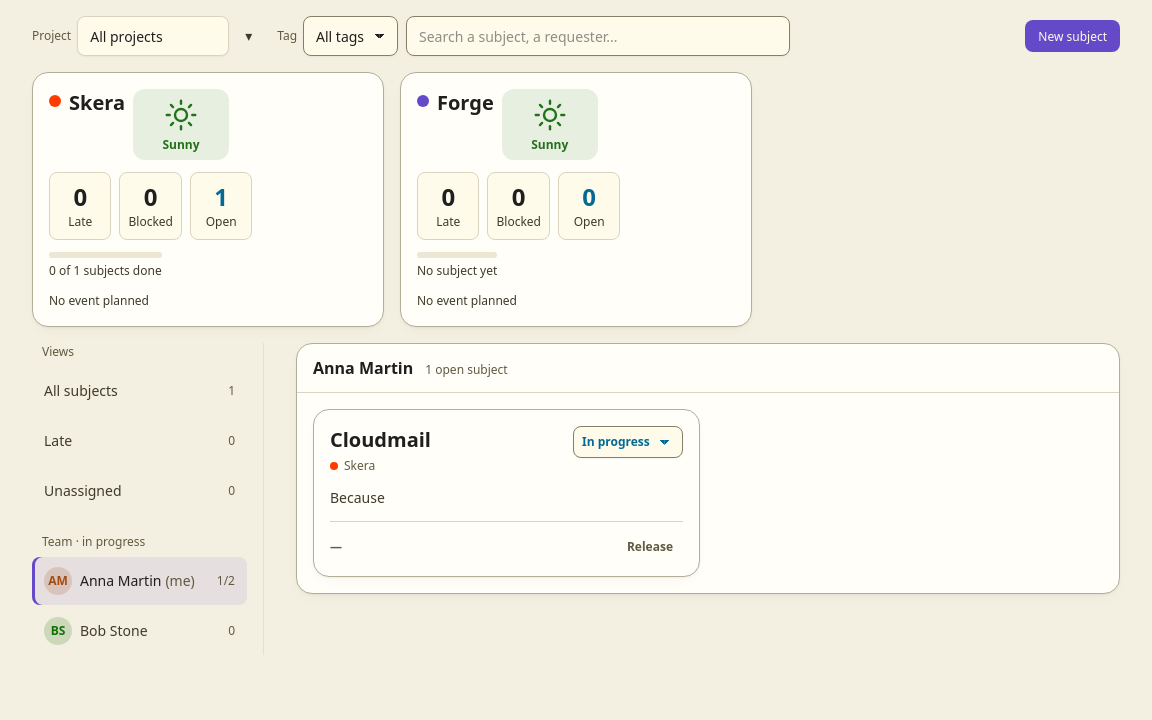
Test: SubjectsScreen drawer › opens on a row click and shows the state history and the project links
Click the list item with test id "subject-row-1": {"x": 506, "y": 493} [313,409,700,578]
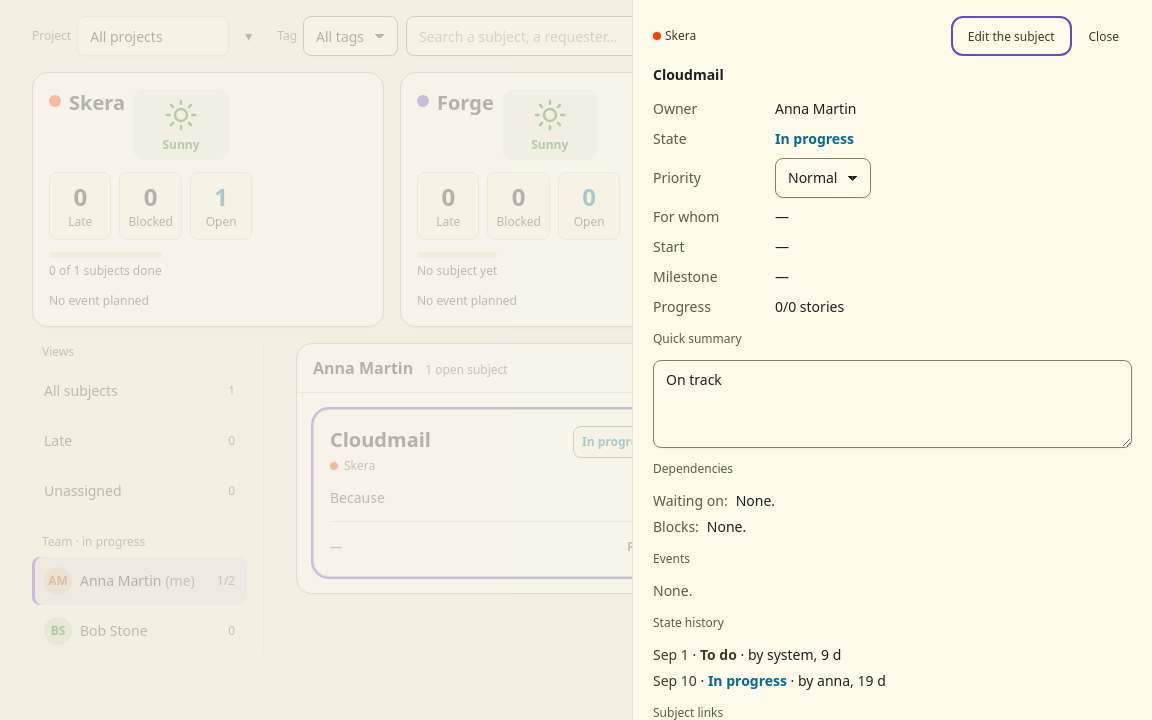
Expected: the dialog with test id "subject-drawer" is shown, [632,0,1151,719]
Expected: the dialog with test id "subject-drawer" shows "Cloudmail", [653,65,724,84]
Expected: the text box with id "drawer-note" holds "On track", [653,360,1132,448]
